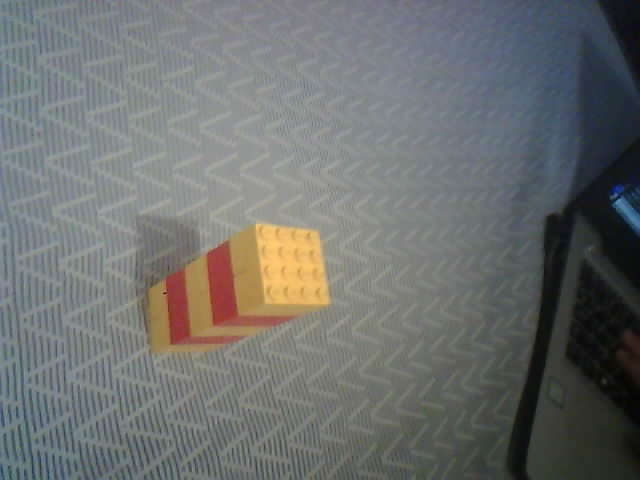lego: (145, 221, 331, 357)
